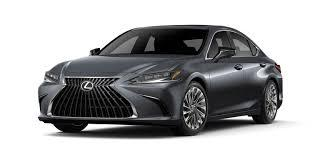lexus: (75, 76, 94, 93)
